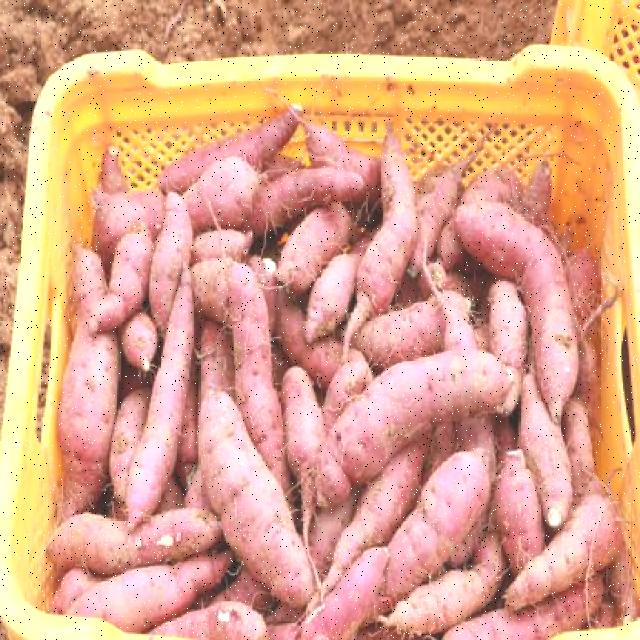Sweet Potato: (184, 371, 350, 634), (457, 186, 585, 429), (112, 252, 202, 522)
